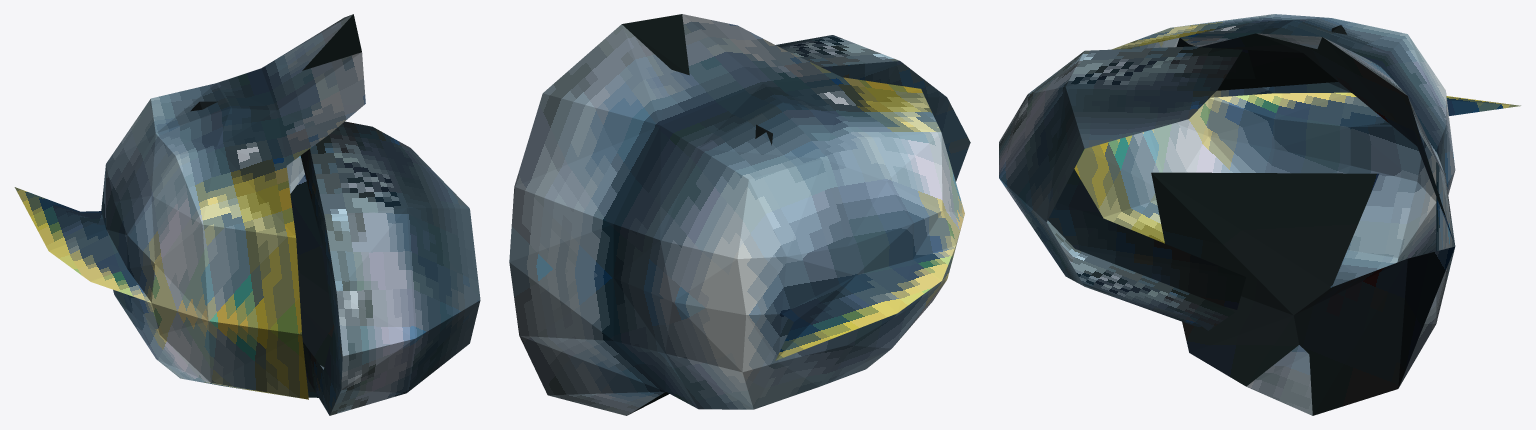
Rendered from XCHAINHELMET.obj.
The picture shows the model from 3 angles, left to right: view 1: azimuth 30°, elevation 25°; view 2: azimuth 150°, elevation 25°; view 3: azimuth 270°, elevation 25°; orthographic projection. The views are drawn at different scales.
Parts seen in each view (by area): view 1: Node 0; view 2: Node 0; view 3: Node 0.
Part boxes in pixels (x1,y1,x2,y2): Node 0: [14, 14, 480, 415]; Node 0: [509, 14, 970, 415]; Node 0: [999, 14, 1520, 415].
Bounding box in the file's own units: 0.4 × 0.44 × 0.55.
Materials: 1 (1 with a texture image).
